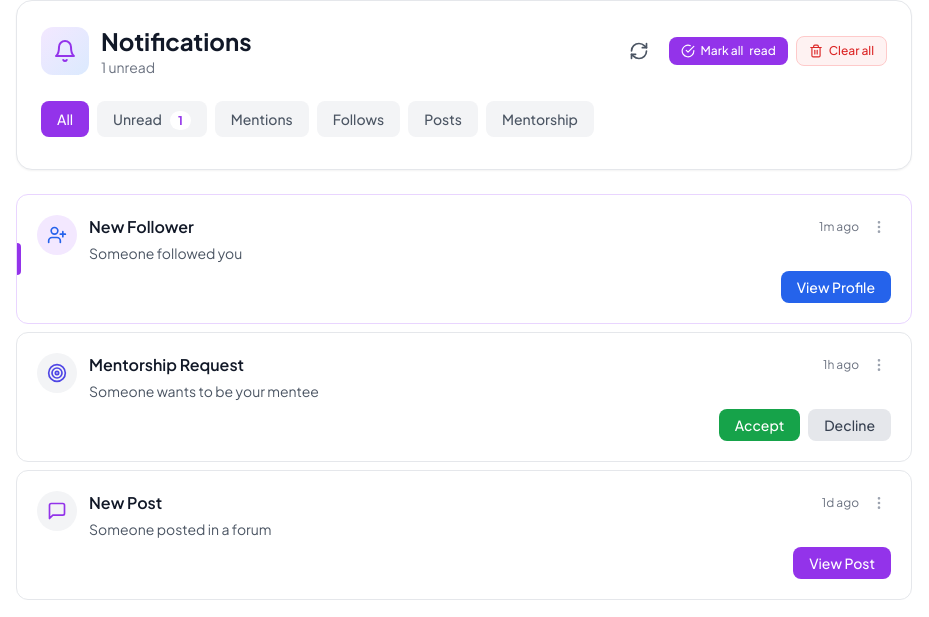
Test: NotificationsView › deletes a single notification via menu
The width and height of the screenshot is (929, 617).
Later steps or results of the test are not shown.
Expected: the heading "New Follower" is shown, [89, 215, 194, 239]
Note: Click the options menu button for first notification
Click the button named "Notification options" next to "1m ago". click: point(879, 227)
box: [867, 215, 891, 239]
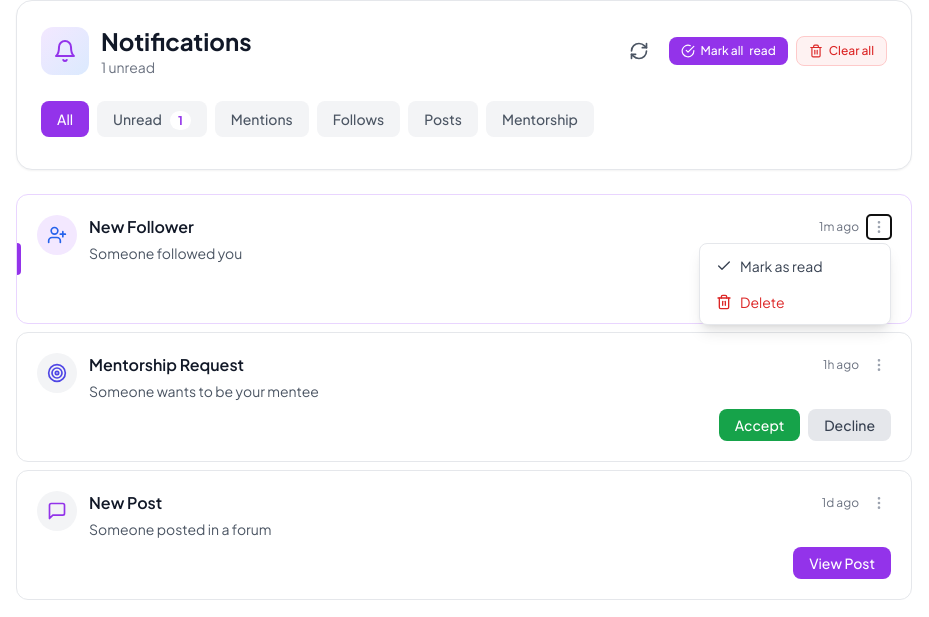
Expected: the button "Delete" is shown, [700, 284, 890, 320]
